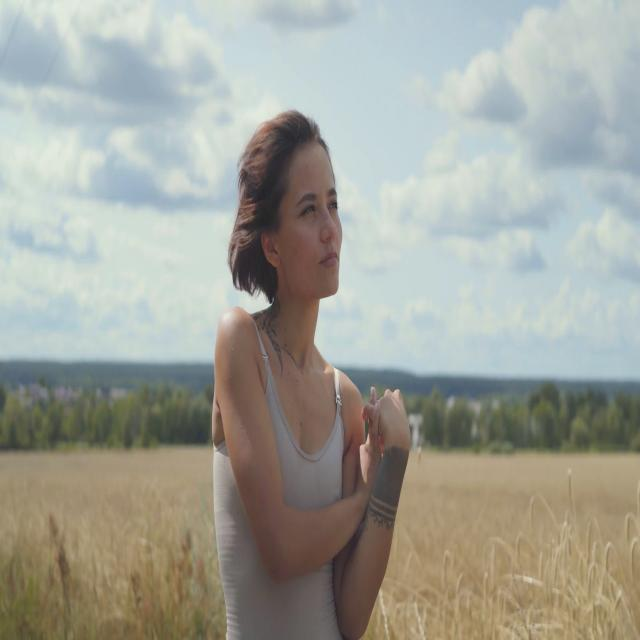adult: (212, 108, 408, 640)
